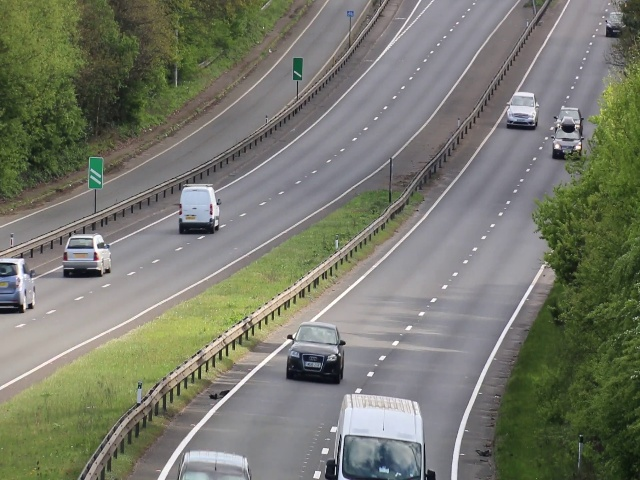car: (332, 426, 426, 480), (290, 322, 342, 385), (178, 184, 221, 232), (62, 233, 111, 274), (1, 260, 37, 310), (507, 90, 538, 128), (551, 126, 582, 162)
